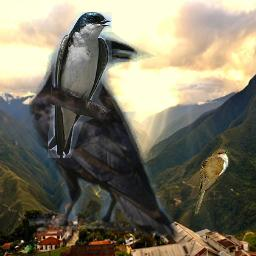Crow: (29, 32, 180, 245)
Cuckoo: (194, 149, 230, 216)
Swallow: (48, 12, 112, 158)
